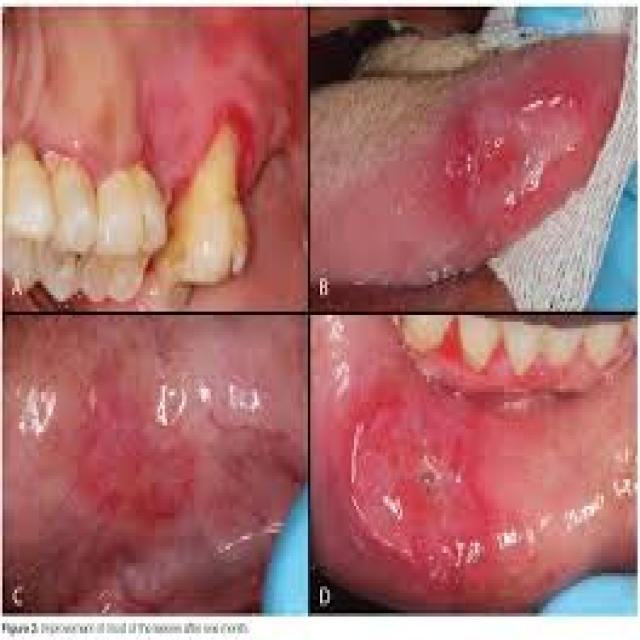processing_area: (0, 0, 311, 314), (312, 317, 636, 610), (1, 318, 307, 621), (308, 39, 623, 284)
ulcer-detection: (328, 356, 512, 602), (142, 14, 292, 199), (62, 367, 204, 546), (451, 90, 600, 245)
